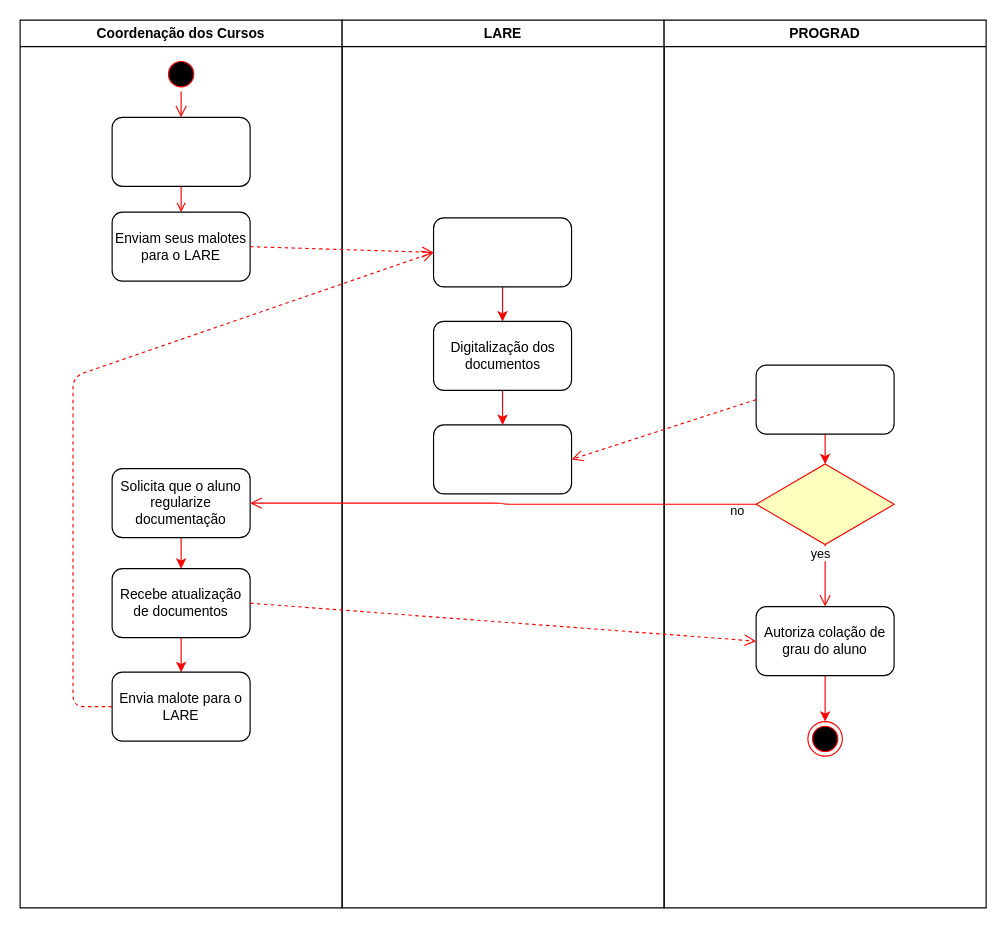
The diagram is 1006 pixels wide and 928 high, and some of its shapes have lost their labels. Here are the shapes that lost their labels. From the top down, the centre of each, then its label:
[180,151]: Recebem documentações dos alunos
[502,252]: Recebe documentação para digitalizar
[824,399]: Realiza pesquisa no banco de dados
[502,459]: Atualiza banco de dados
[824,504]: Entregou Certificado de Conclusão do Ensino Médio
